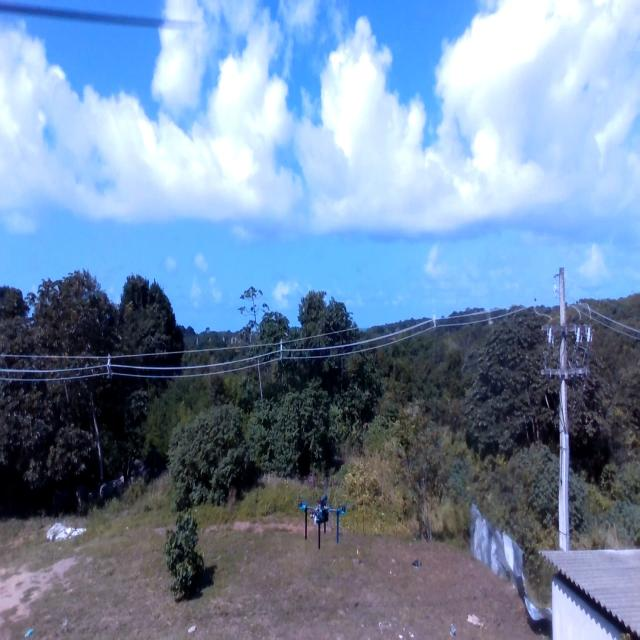-uav-: (288, 487, 352, 555)
